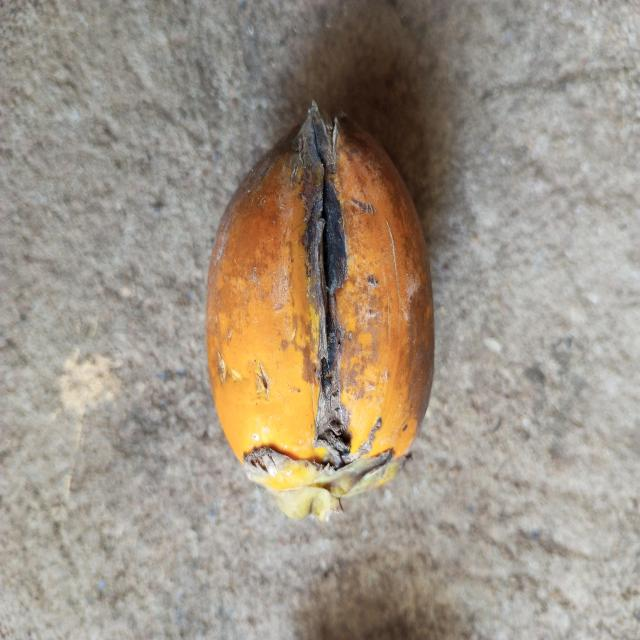damaged: (205, 104, 436, 522)
